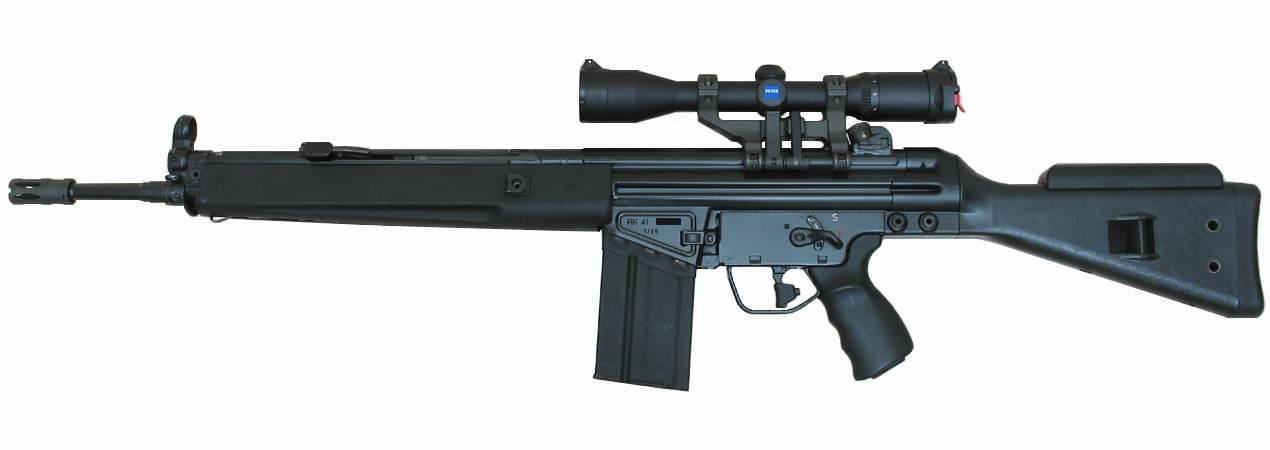Arma Real: (3, 58, 1264, 393)
